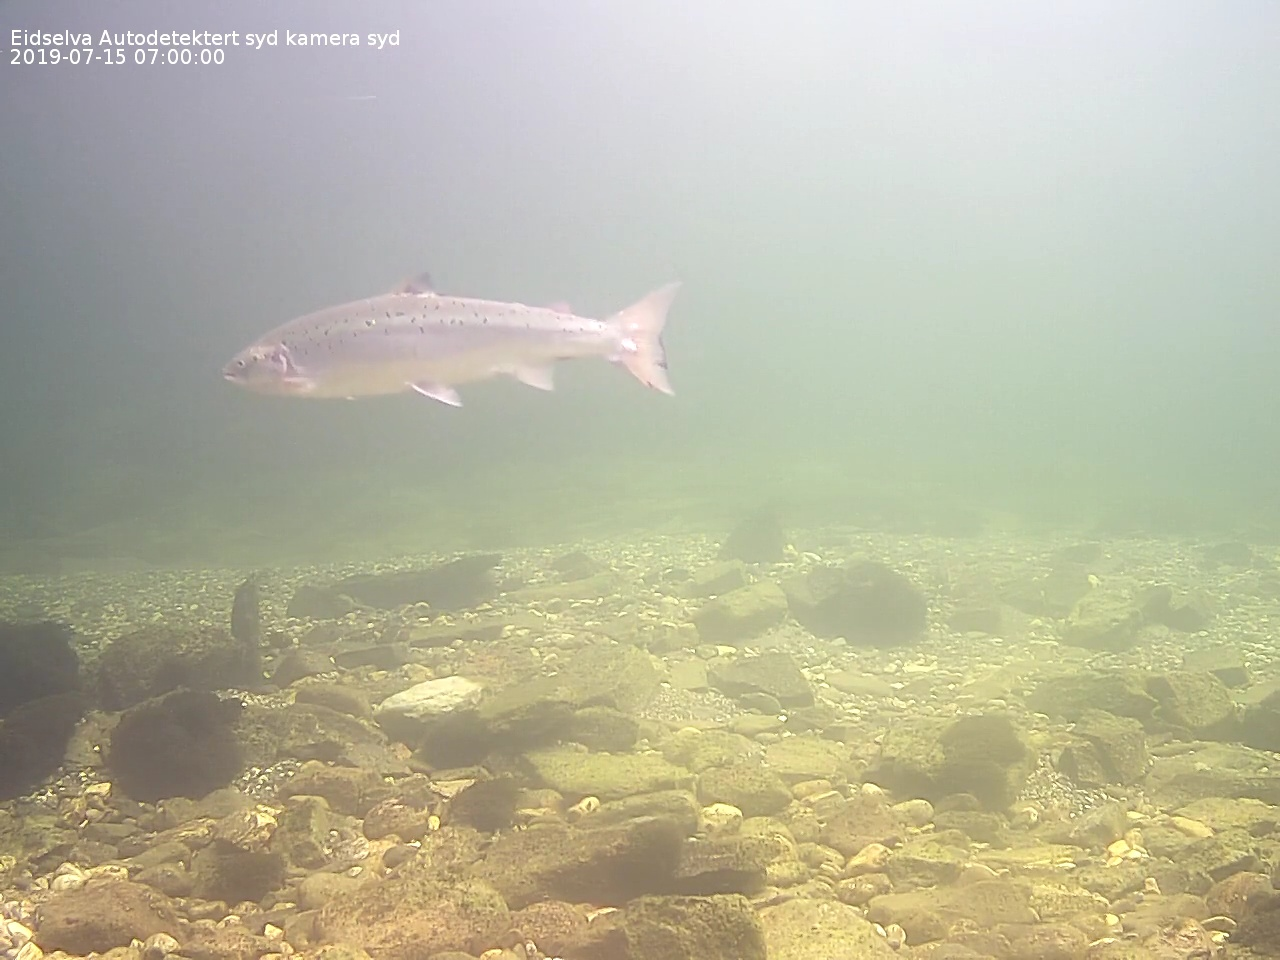salmon: (213, 266, 692, 421)
